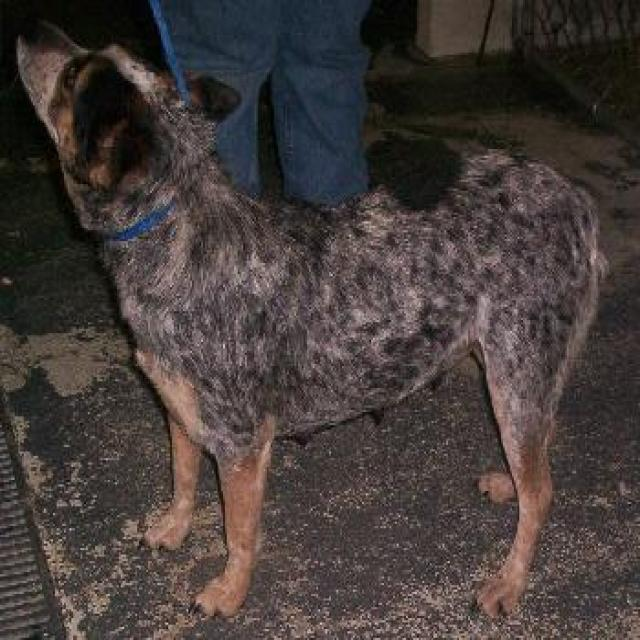Dogs: (13, 16, 609, 620)
